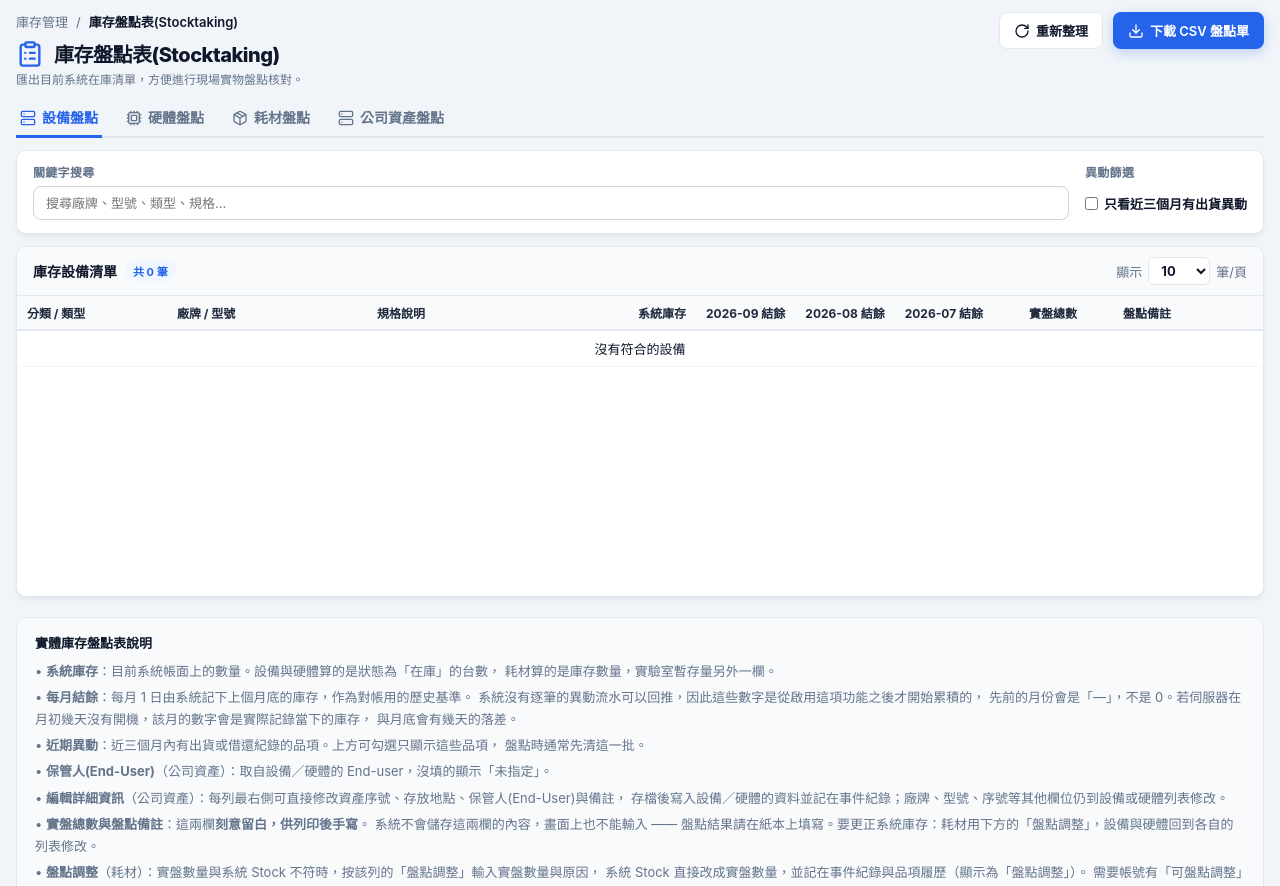
Test: 盤點表的月結餘欄位 › 可以只看近三個月有出貨異動的品項
What coordinates should you click on to do the following:
click the text "耗材盤點"
I would click on:
 (271, 118)
Its box is [232,109,310,126].
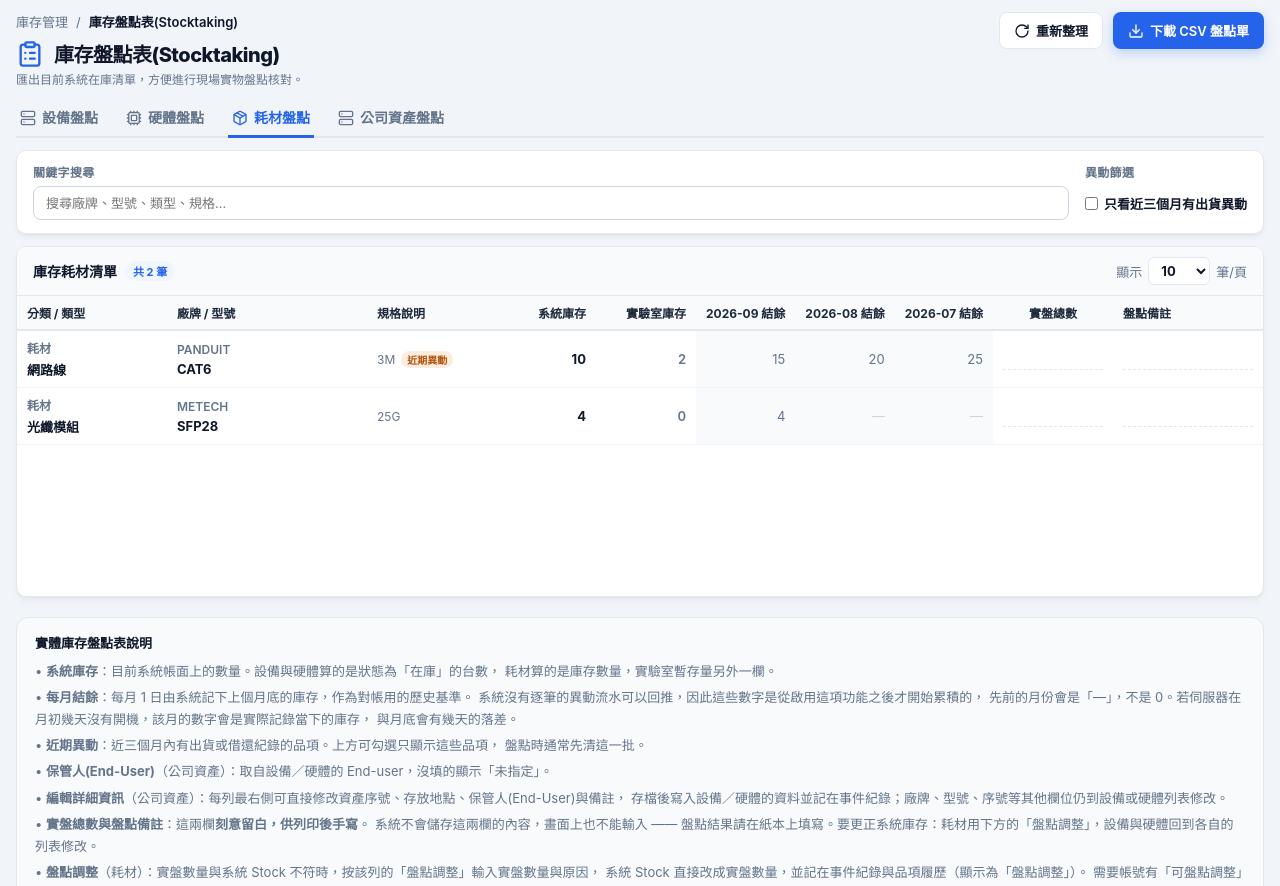
Expected: the text "PANDUIT" is shown, [177,342,230,356]
Expected: the text "METECH" is shown, [177,398,228,414]
What coordinates should you click on to do the following:
click the checkbox labelled "只看近三個月有出貨異動"
I would click on:
 (1092, 204)
Its box is [1085,197,1098,210].
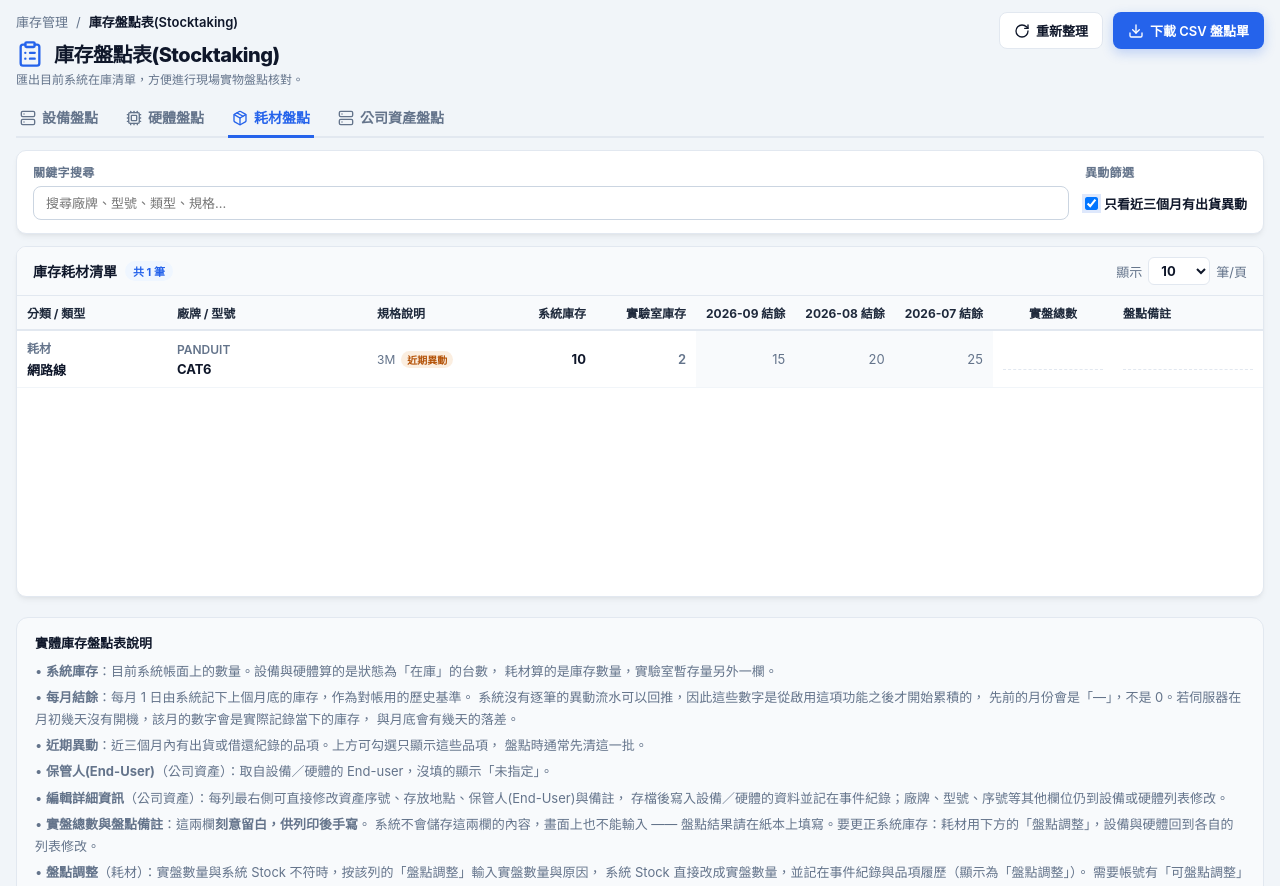
Expected: the text "PANDUIT" is shown, [177,342,230,356]
Expected: the text "METECH" is gone
